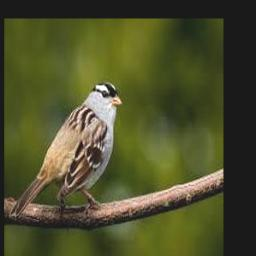Sparrow: (9, 81, 122, 221)
